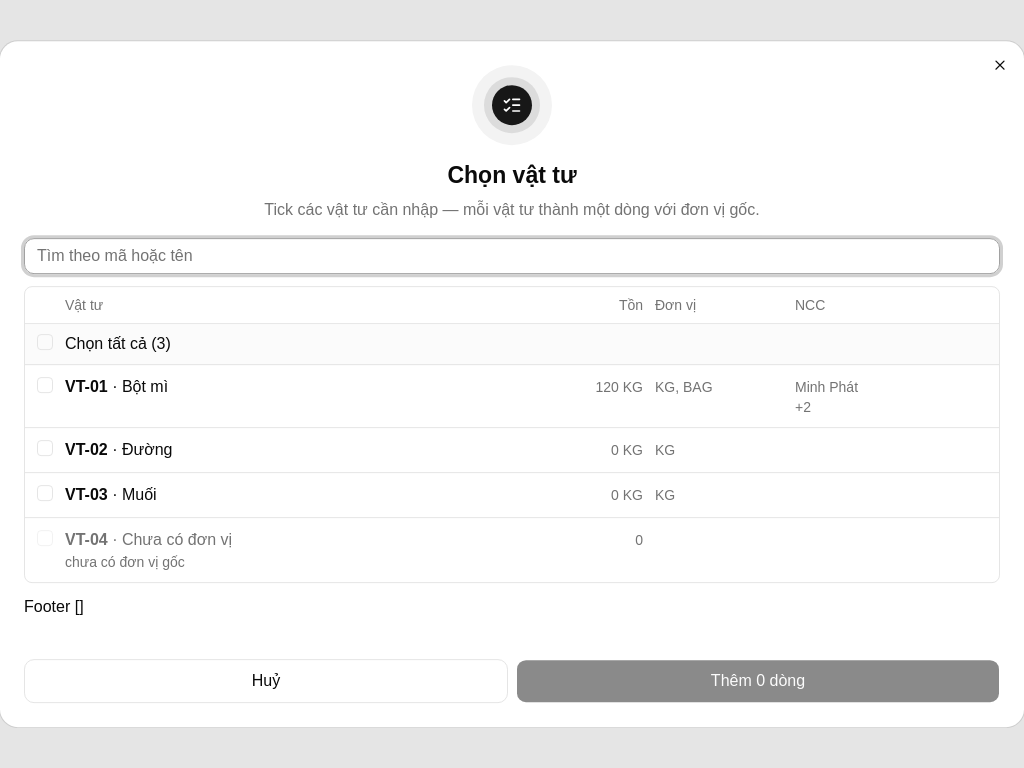
Test case: ImportFormMaterialPicker › footer nhận chữ đang tìm (đã cắt khoảng trắng)
Step 1. Type " thép " into the field labelled "Tìm theo mã hoặc tên" → coordinates (512, 256), box [24,238,1000,274]
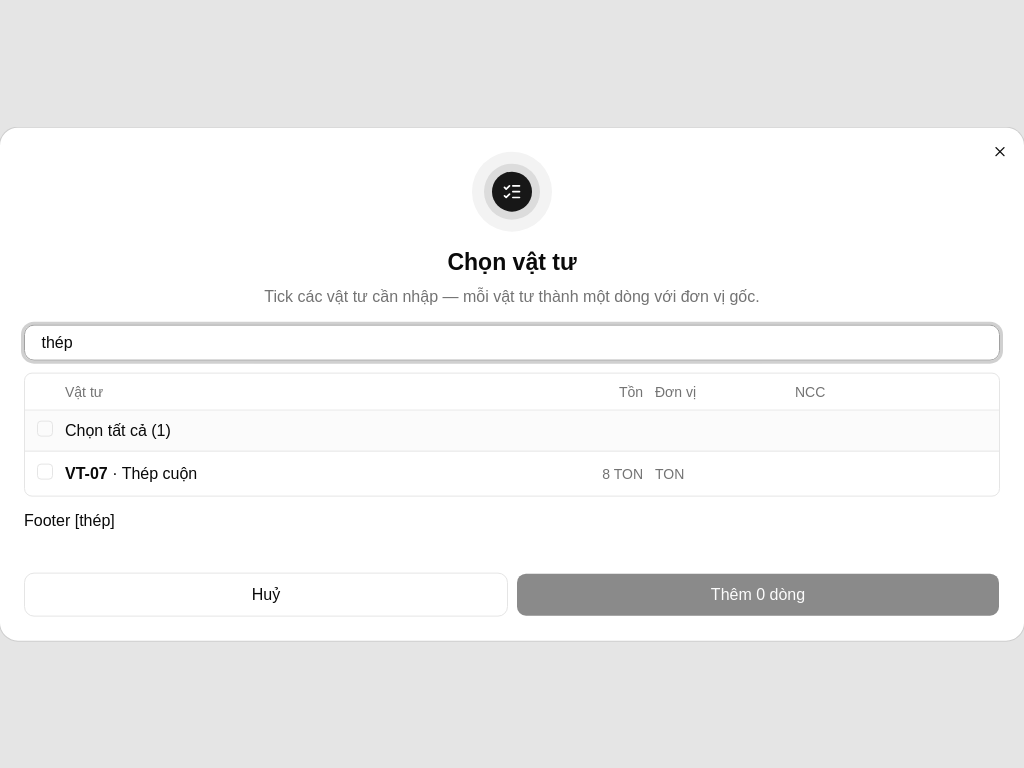
Expected: the button "Footer [thép]" is shown, [24,508,115,532]
